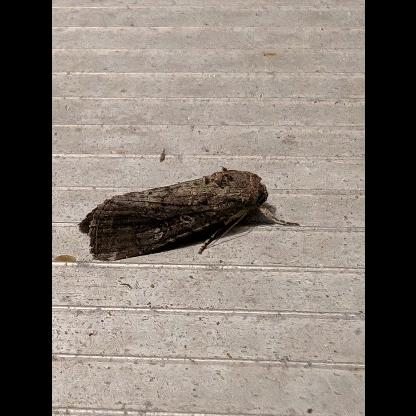Fall Armyworm Moth: (75, 164, 302, 266)
